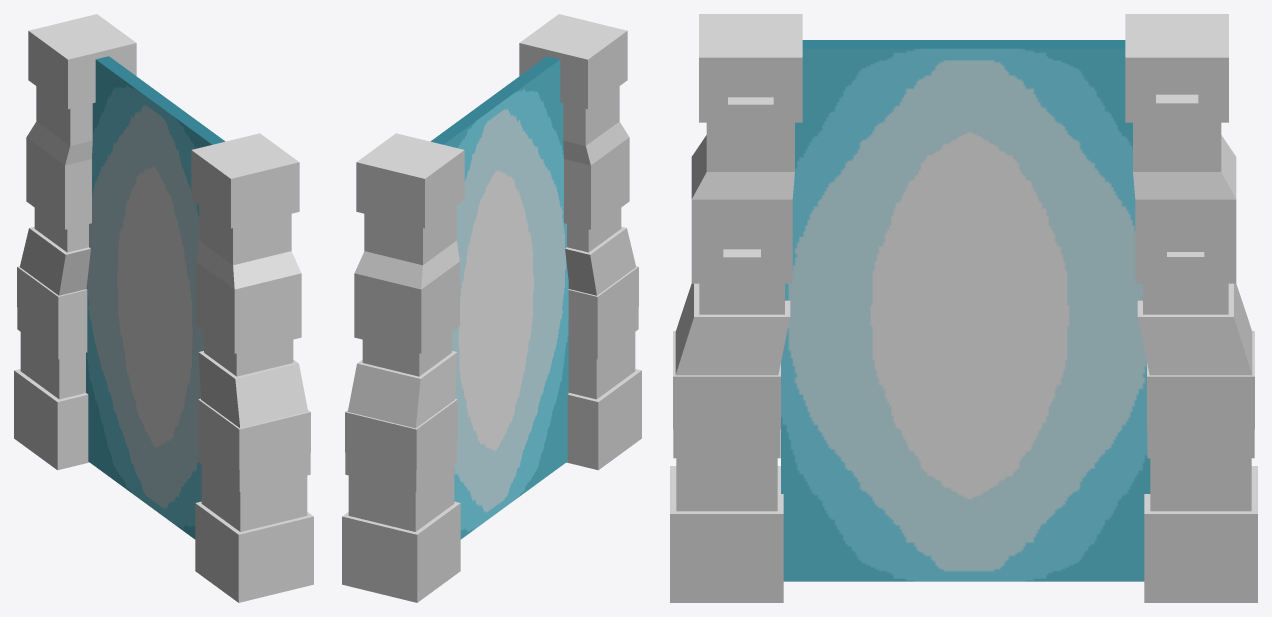
The model's file is Portal.fbx.
The picture shows the model from 3 angles, left to right: view 1: azimuth 30°, elevation 25°; view 2: azimuth 150°, elevation 25°; view 3: azimuth 270°, elevation 25°; orthographic projection. The views are drawn at different scales.
Visible parts, largest first — view 1: Cube.001, Cube.002, Cube; view 2: Cube, Cube.002, Cube.001; view 3: Cube.002, Cube.001, Cube.
Part boxes in pixels (<box>): Cube.001: <box>191,133,313,602</box>; Cube.002: <box>86,56,225,539</box>; Cube: <box>14,14,136,470</box>; Cube: <box>342,133,464,602</box>; Cube.002: <box>430,56,568,539</box>; Cube.001: <box>519,14,641,470</box>; Cube.002: <box>781,40,1150,581</box>; Cube.001: <box>670,14,802,602</box>; Cube: <box>1125,14,1257,602</box>.
Bounding box in the file's own units: 176 × 931 × 913.
3 materials, 1 textured.
